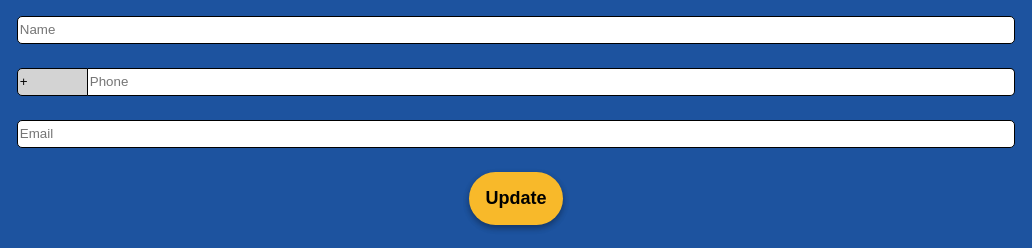
PersonalInfoForm component › should be able to fill out name input
Update without inputting a name
Click the button with aria-label "update-button".
click(516, 198)  # box [470,172,562,225]
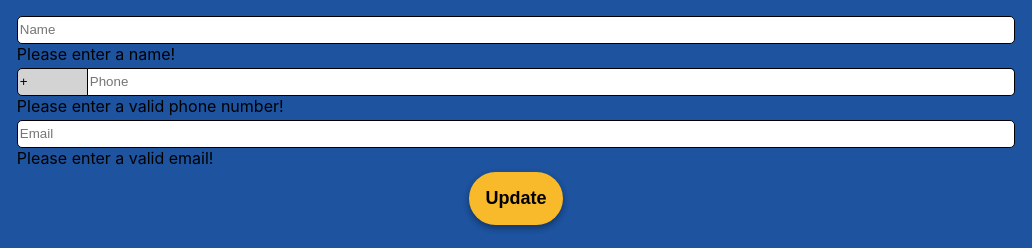
Expected: the text "Please enter a name!" is shown, [17,44,175,64]
Update with an inputted name
Type "Test name" into the field named "name-input".
click(516, 30); type("Test name")  # box [17,16,1015,44]
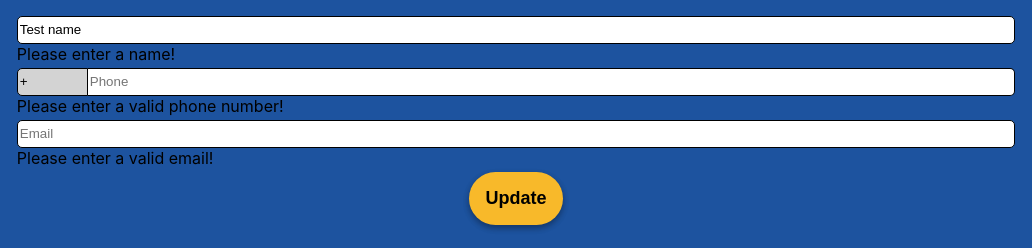
Click the button with aria-label "update-button".
click(516, 198)  # box [470,172,562,225]
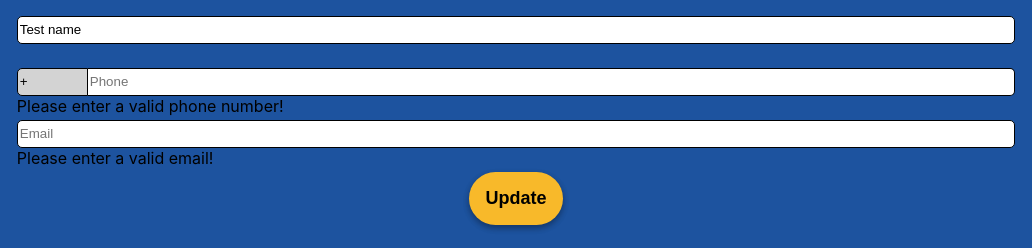
Expected: the text "Please enter a name!" is gone
